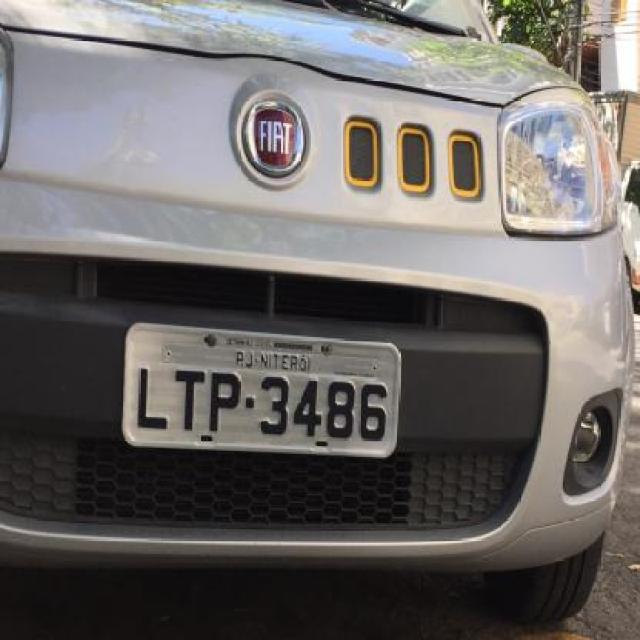old_plate: (113, 316, 410, 468)
